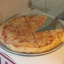pizza: (3, 13, 61, 48)
